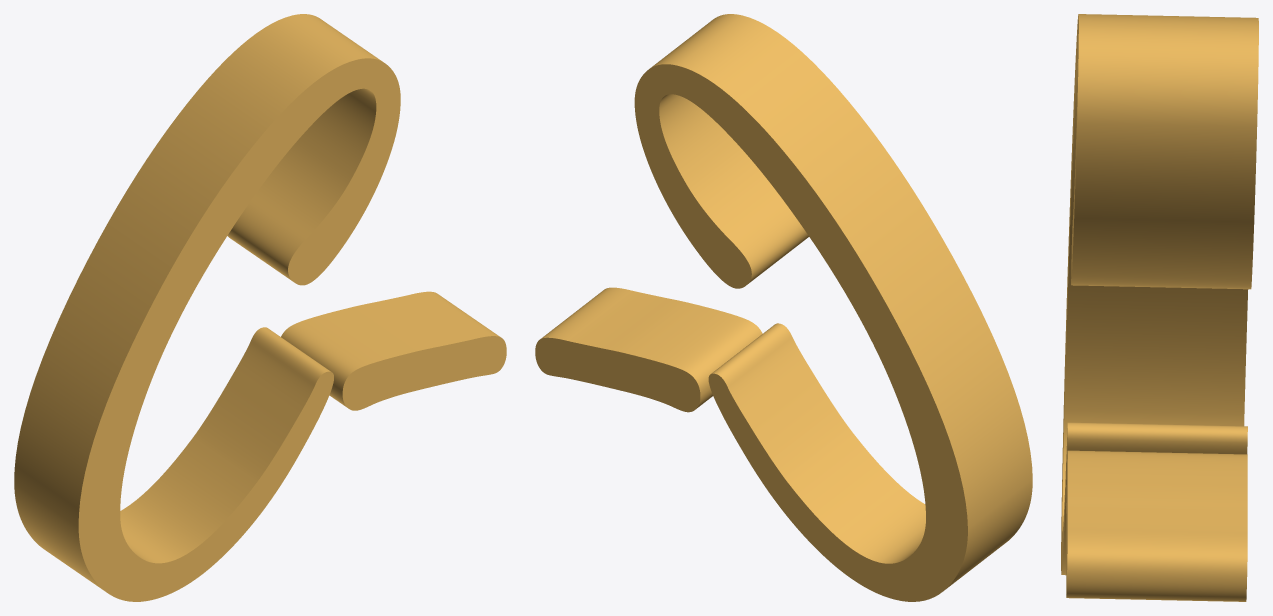
The picture shows the model from 3 angles, left to right: view 1: azimuth 30°, elevation 25°; view 2: azimuth 150°, elevation 25°; view 3: azimuth 270°, elevation 25°; orthographic projection. The views are drawn at different scales.
Visible parts, largest first — view 1: Text; view 2: Text; view 3: Text.
Boxes of the visible parts, x1,y1,x2,y2 form: Text: (14, 14, 506, 601); Text: (535, 14, 1032, 601); Text: (1061, 14, 1258, 601).
Size of the model in its own units: 0.5386 by 0.584 by 0.1538.
